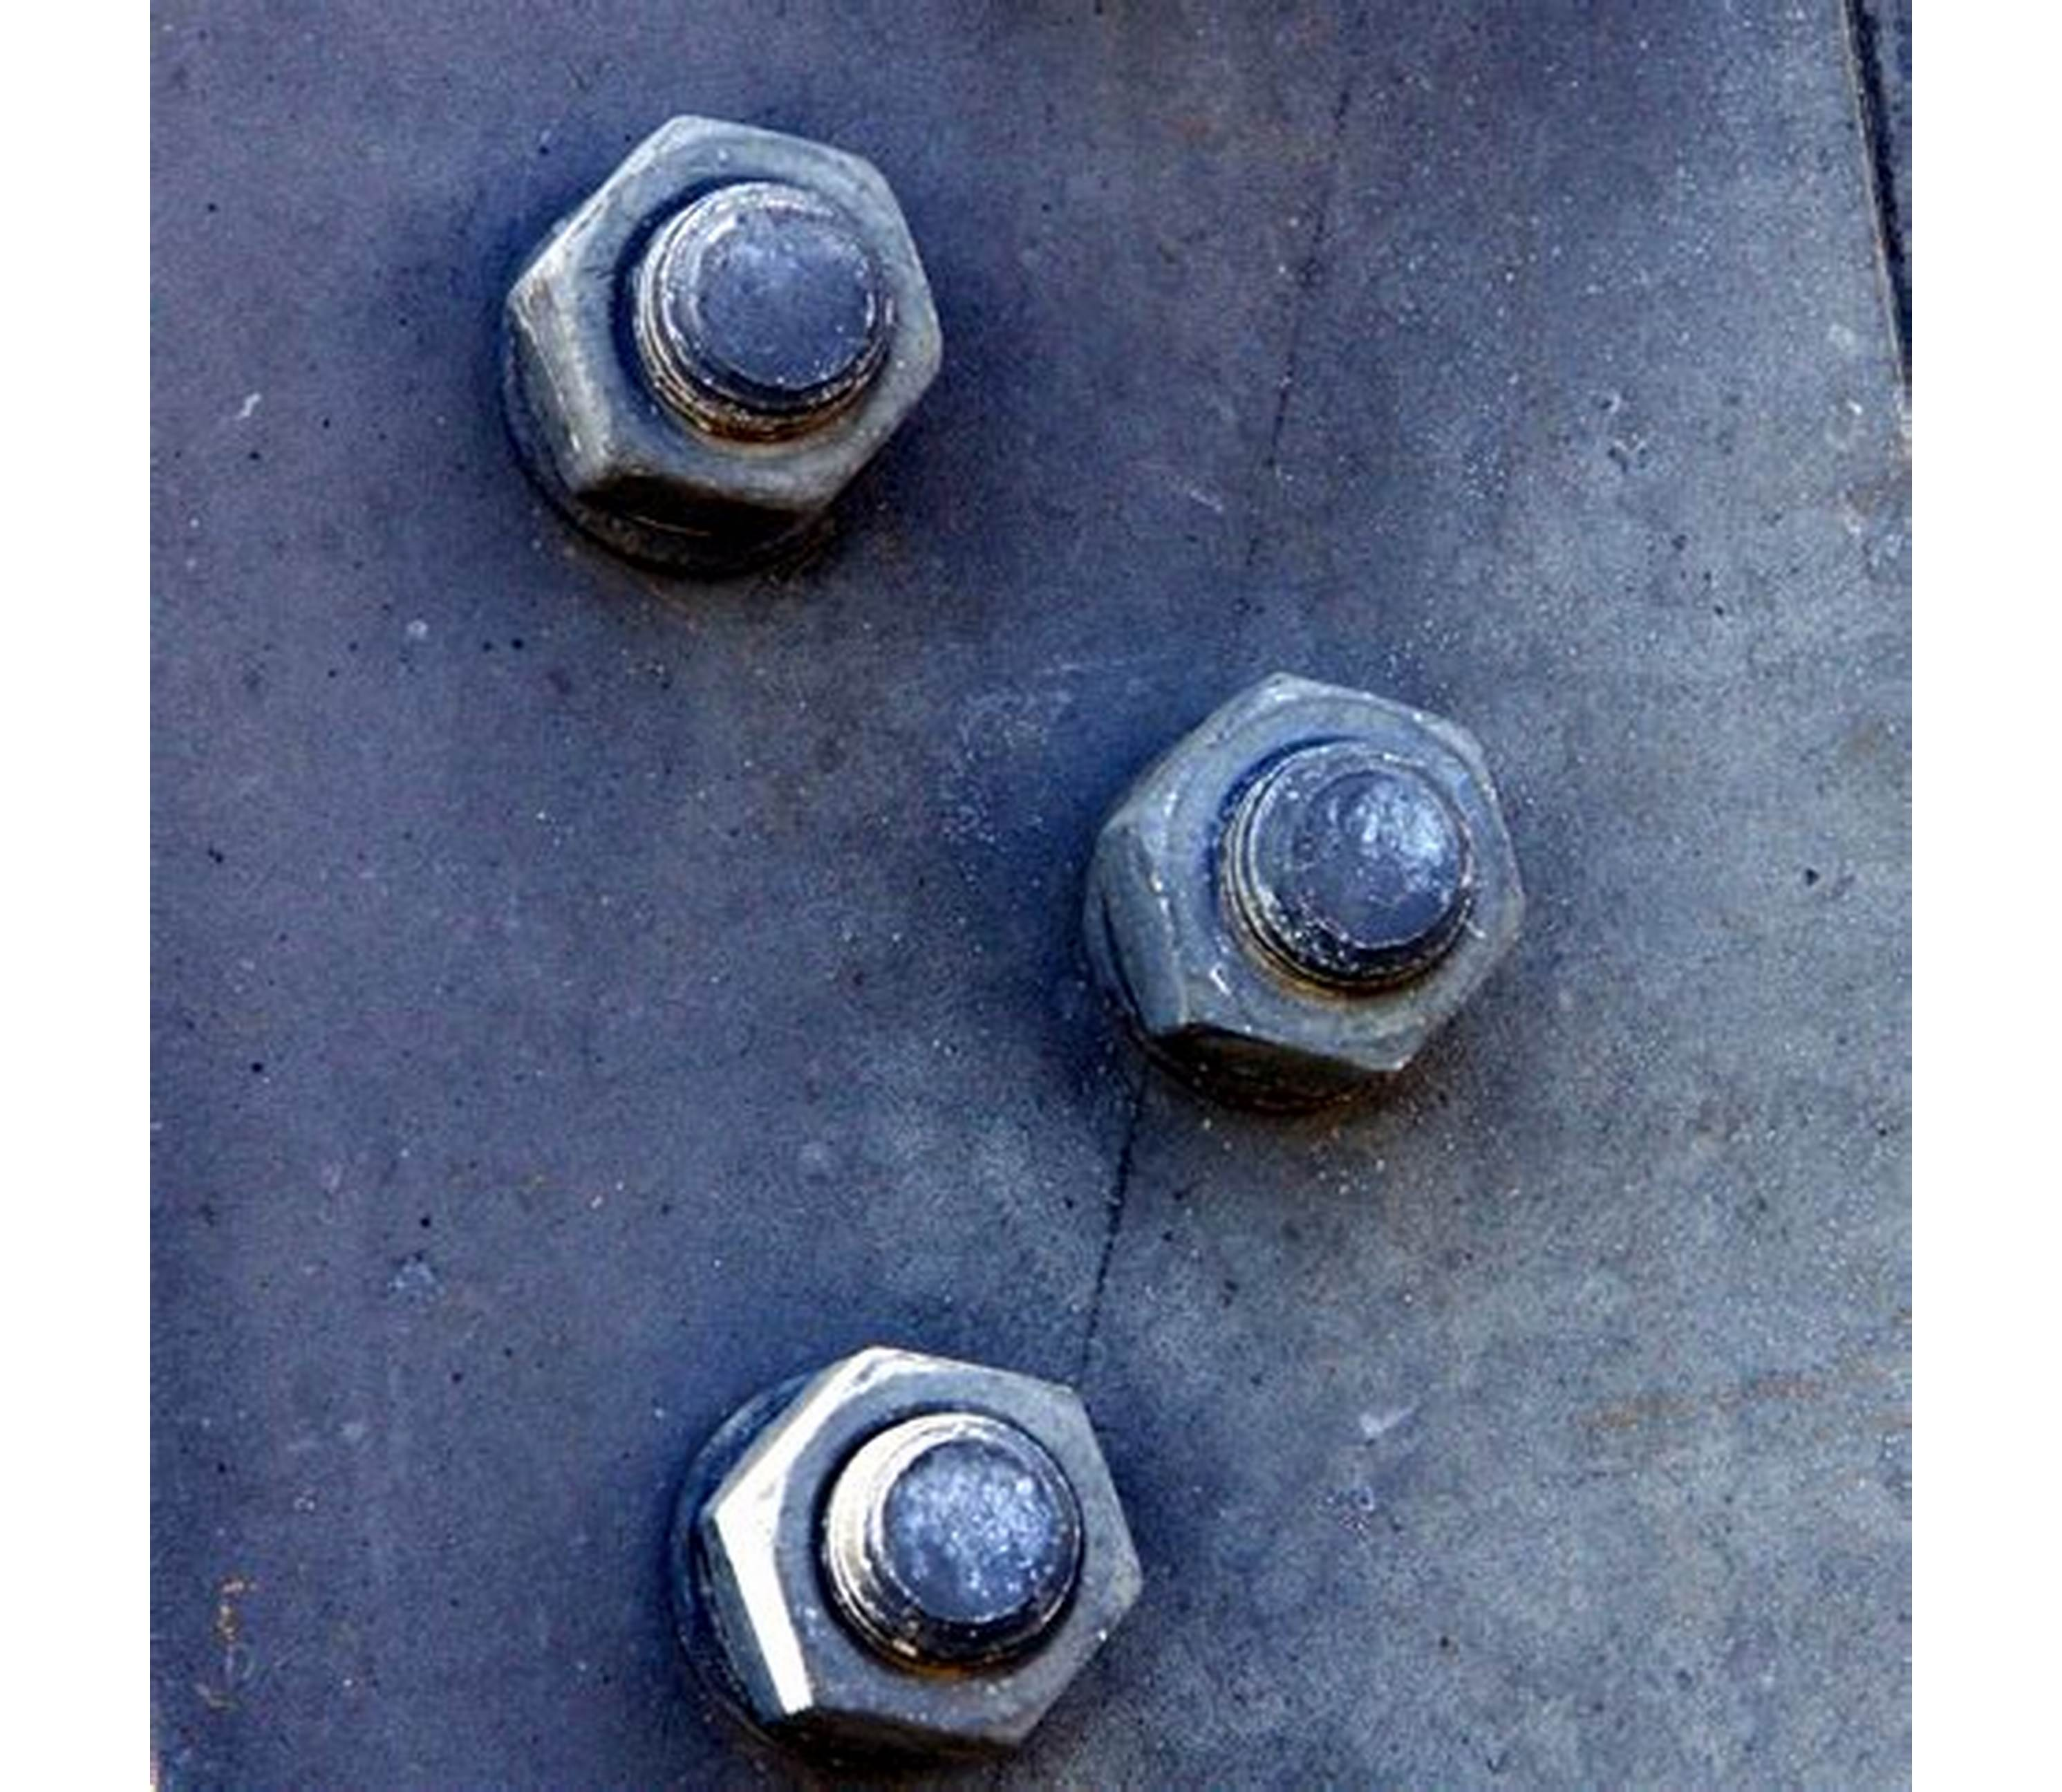bolt_b: (493, 117, 947, 544), (693, 1341, 1147, 1766), (1098, 672, 1529, 1087)
